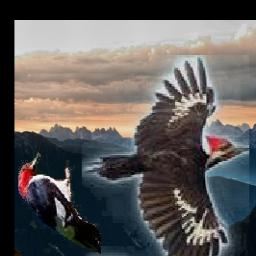Woodpecker: (82, 56, 249, 256), (18, 151, 101, 256)
